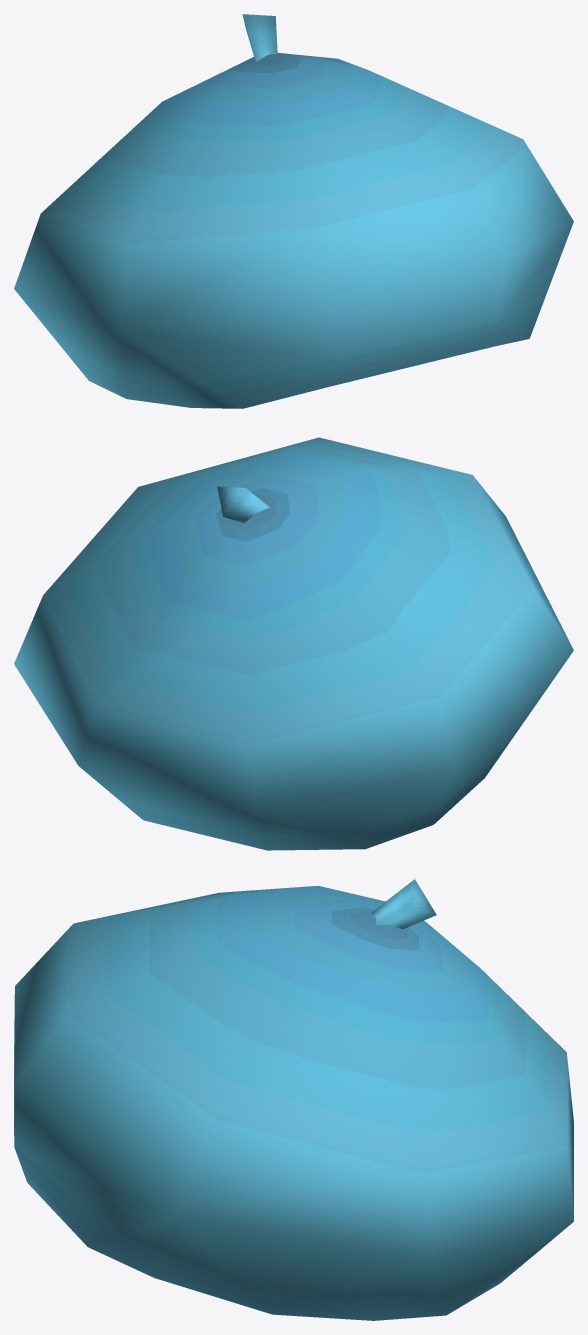
The picture shows the model from 3 angles, top to bottom: view 1: azimuth 30°, elevation 25°; view 2: azimuth 150°, elevation 25°; view 3: azimuth 270°, elevation 25°; orthographic projection. The views are drawn at different scales.
Parts seen in each view (by area): view 1: code_head111; view 2: code_head111; view 3: code_head111.
Boxes of the visible parts, x1,y1,x2,y2 form: code_head111: (14,14,573,408); code_head111: (14,437,573,850); code_head111: (14,879,573,1320).
Size of the model in its own units: 0.7646 by 0.5227 by 0.7209.
Materials: 1 (1 with a texture image).
